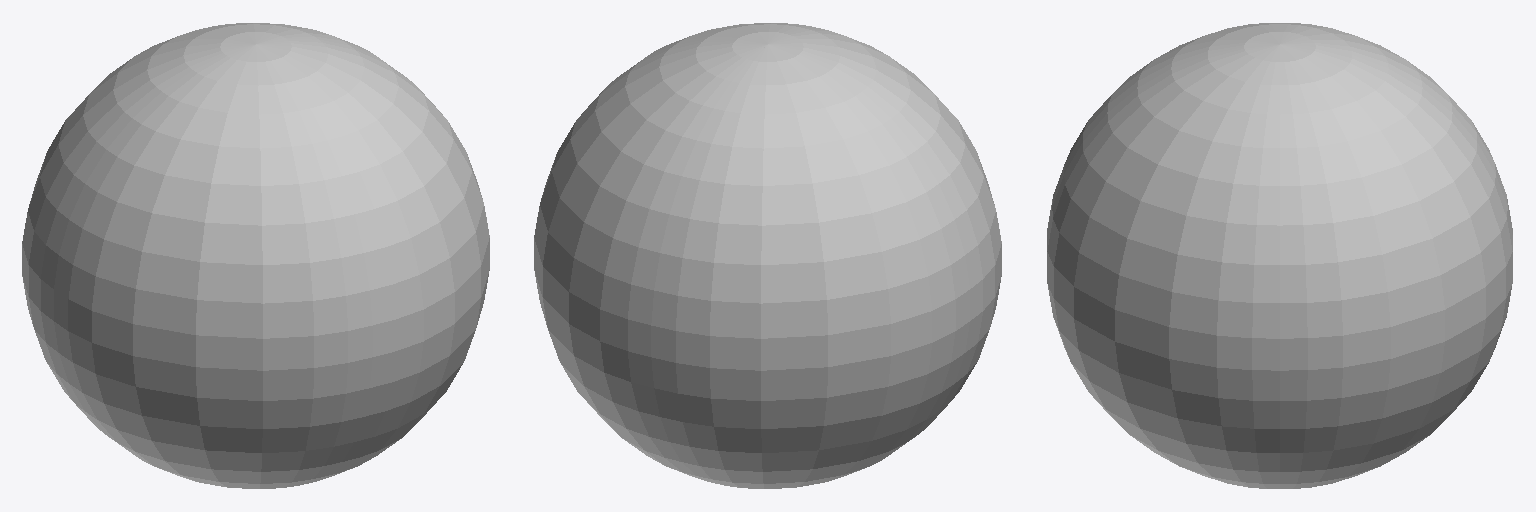
File: Globe.obj
3 views of the same model, side by side, from view 1: azimuth 30°, elevation 25°; view 2: azimuth 150°, elevation 25°; view 3: azimuth 270°, elevation 25° (orthographic).
Visible parts, largest first — view 1: SurfSphere; view 2: SurfSphere; view 3: SurfSphere.
Part boxes in pixels (left/top/right/bottom): SurfSphere: left=22, top=23, right=489, bottom=488; SurfSphere: left=534, top=23, right=1001, bottom=488; SurfSphere: left=1047, top=23, right=1512, bottom=488.
Size of the model in its own units: 199 by 199 by 199.